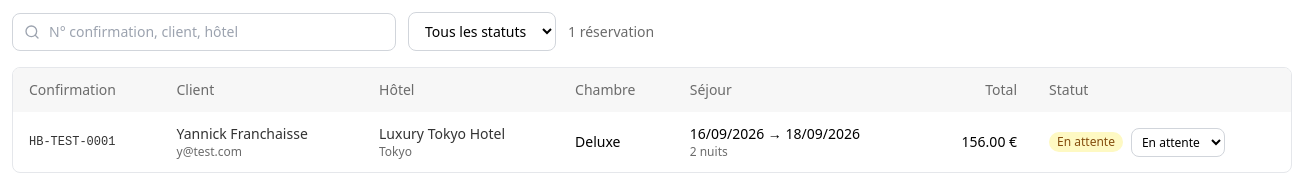
ReservationsTable › change le statut en ligne et envoie un PUT
The width and height of the screenshot is (1292, 190).
Expected: the text "HB-TEST-0001" is shown, [13,112,160,172]
Select "Confirmée" in the dropdown named "changer le statut de la réservation HB-TEST-0001" at (1178, 142), box [1131,128,1225,156]
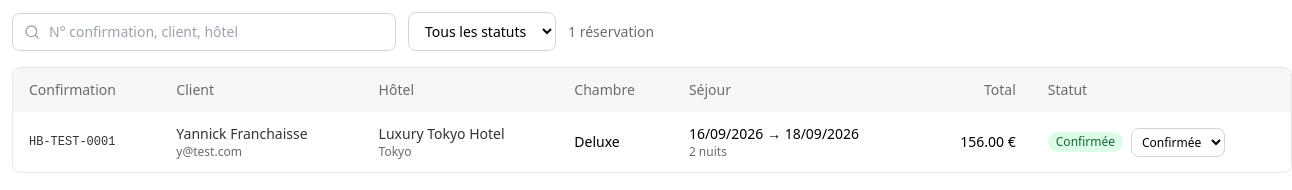
Expected: the text "Confirmée" is shown, [1048,132,1123,152]
